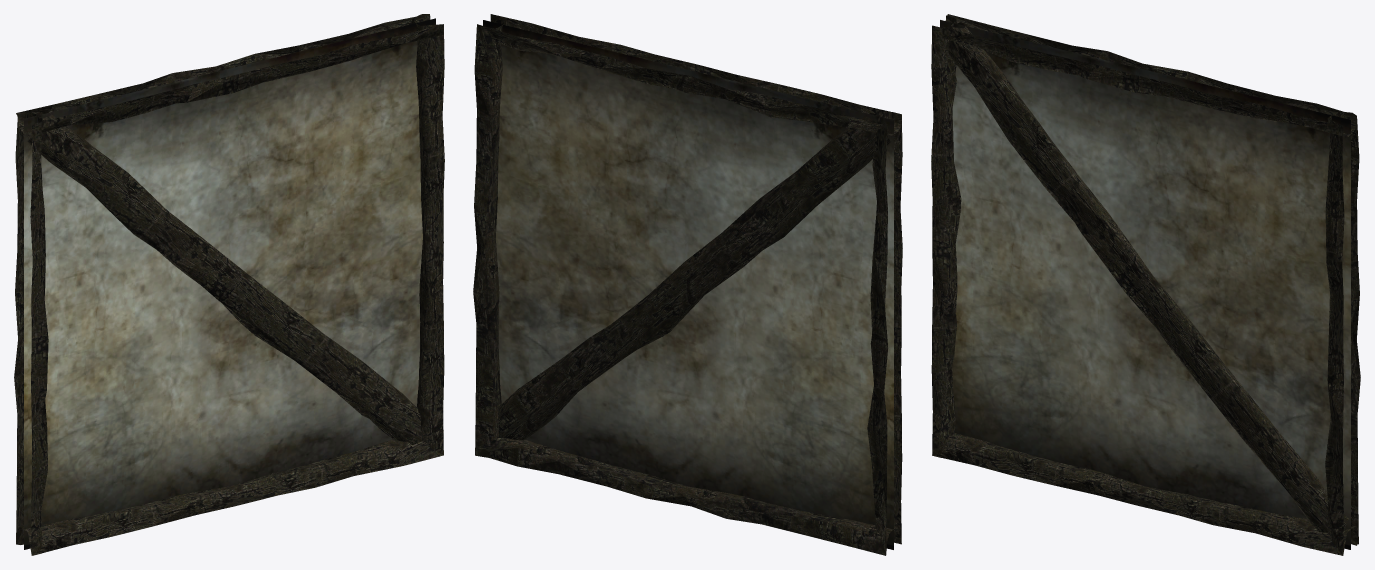
File: default_extension02.dae
3 views of the same model, side by side, from view 1: azimuth 30°, elevation 25°; view 2: azimuth 150°, elevation 25°; view 3: azimuth 330°, elevation 25° (orthographic).
Parts seen in each view (by area): view 1: pPlane1, polySurface21, polySurface18, polySurface16, polySurface17, polySurface15; view 2: pPlane1, polySurface21, polySurface18, polySurface16, polySurface17, polySurface15; view 3: pPlane1, polySurface21, polySurface16, polySurface17, polySurface18, polySurface15.
Boxes of the visible parts, <box> form: pPlane1: <box>24,18,435,549</box>; polySurface21: <box>22,111,421,444</box>; polySurface18: <box>411,14,444,455</box>; polySurface16: <box>16,439,443,555</box>; polySurface17: <box>14,112,48,555</box>; polySurface15: <box>16,14,443,136</box>; pPlane1: <box>483,20,893,549</box>; polySurface21: <box>498,113,895,440</box>; polySurface18: <box>473,14,506,457</box>; polySurface16: <box>475,436,901,555</box>; polySurface17: <box>867,112,902,554</box>; polySurface15: <box>477,14,901,135</box>; pPlane1: <box>940,20,1350,549</box>; polySurface21: <box>948,22,1352,534</box>; polySurface16: <box>933,433,1358,555</box>; polySurface17: <box>931,15,961,457</box>; polySurface18: <box>1325,112,1360,555</box>; polySurface15: <box>937,14,1356,137</box>.
Bounding box in the file's own units: 4 × 4 × 0.328.
